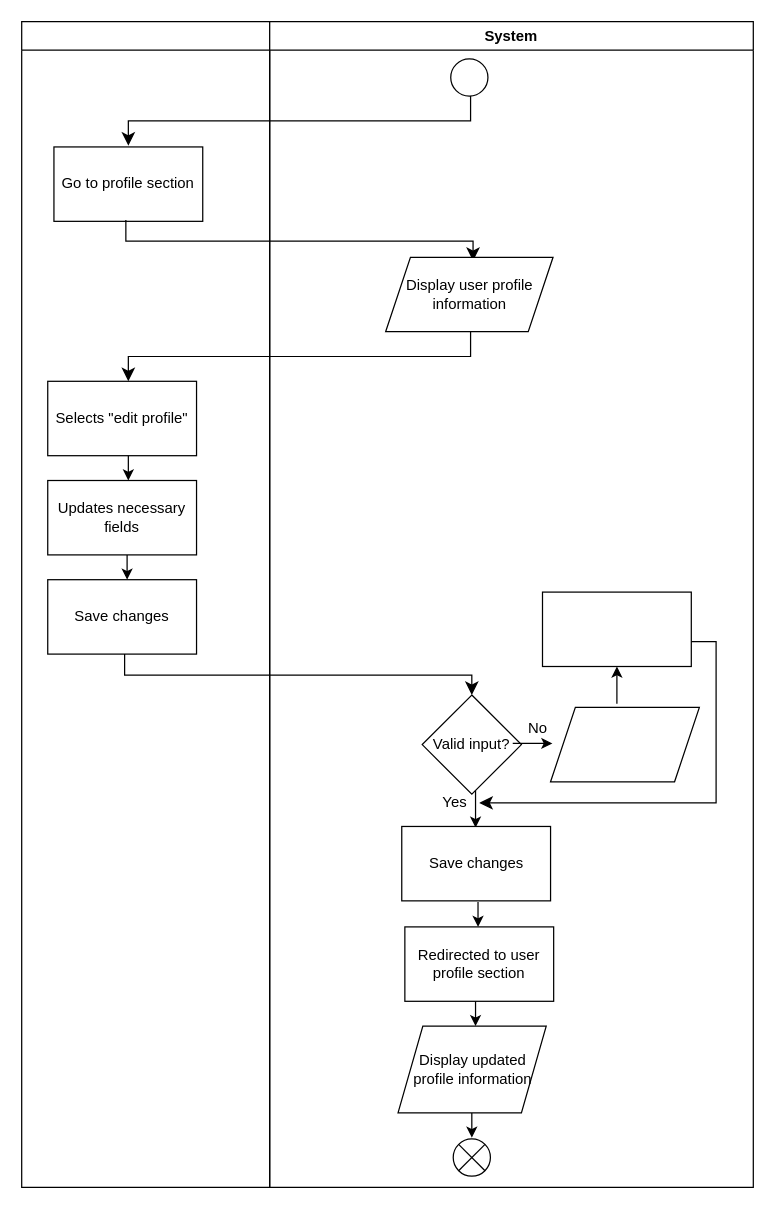
The diagram is 775 pixels wide and 1209 high, and some of its shapes have lost their labels. The shapes that lost their labels are listed below. From the top down, each one's centre as x and y in pixels, then its label:
point (145, 603): Administrator,fellow,student,staff
point (616, 628): Corrects invalid input
point (624, 744): Display "Error"
